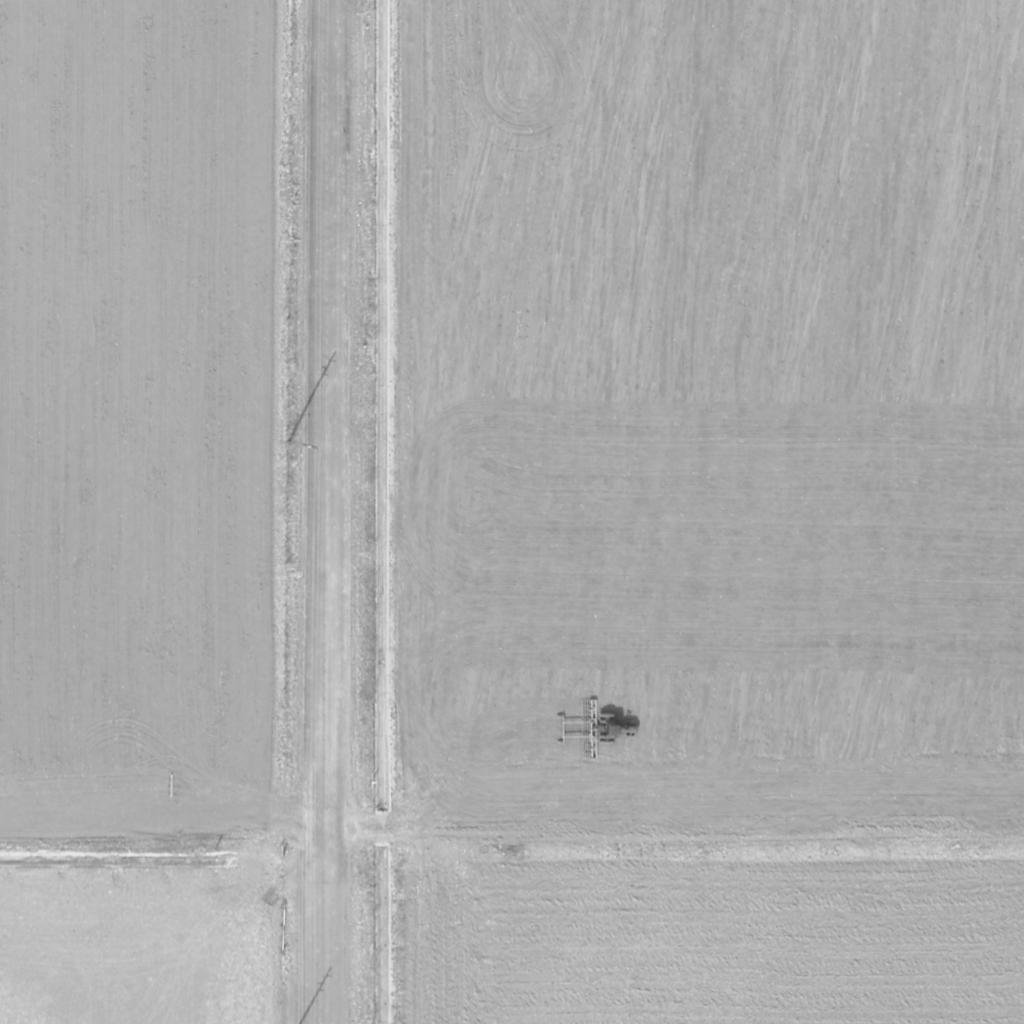vehicle: (598, 713, 640, 747)
